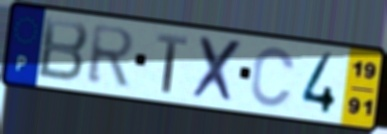4: (299, 50, 339, 119)
B: (36, 15, 91, 85)
C: (248, 44, 298, 109)
R: (85, 23, 138, 89)
T: (155, 31, 190, 96)
X: (190, 33, 246, 107)
